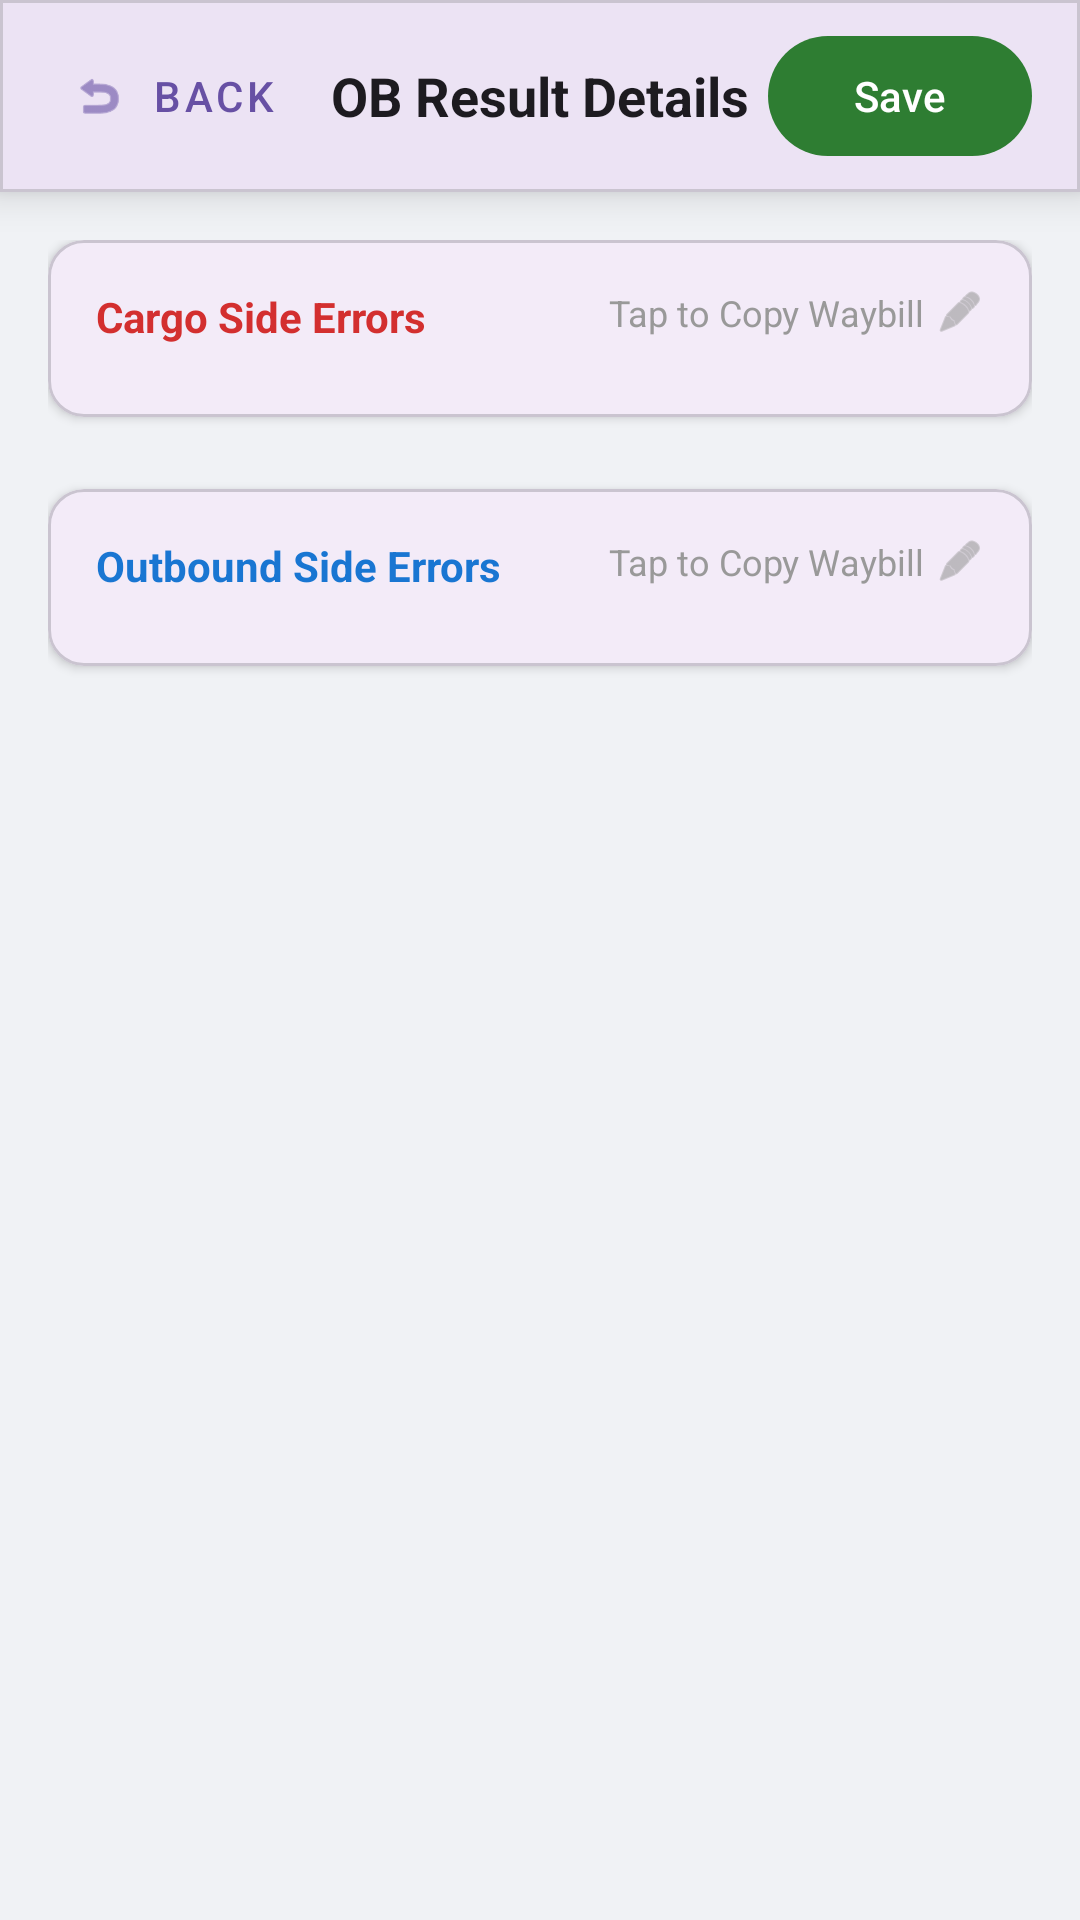

Icons on this 1080*1920 Android screen, each with the point to tap as (x=x, y=y):
edit: (x=960, y=312), (x=960, y=561)
